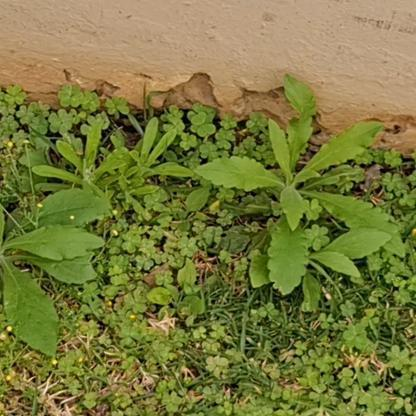Weeds: (196, 72, 407, 305), (0, 185, 109, 349), (32, 120, 126, 205), (106, 119, 191, 201)
